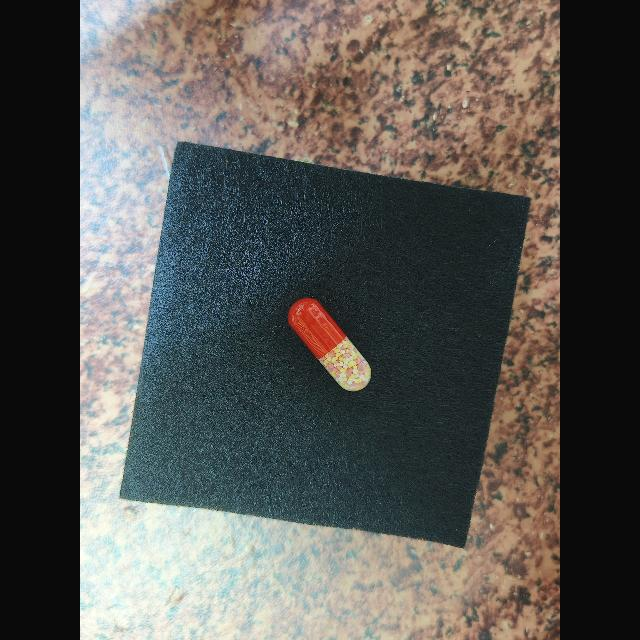Intact Capsule: (288, 298, 371, 392)
